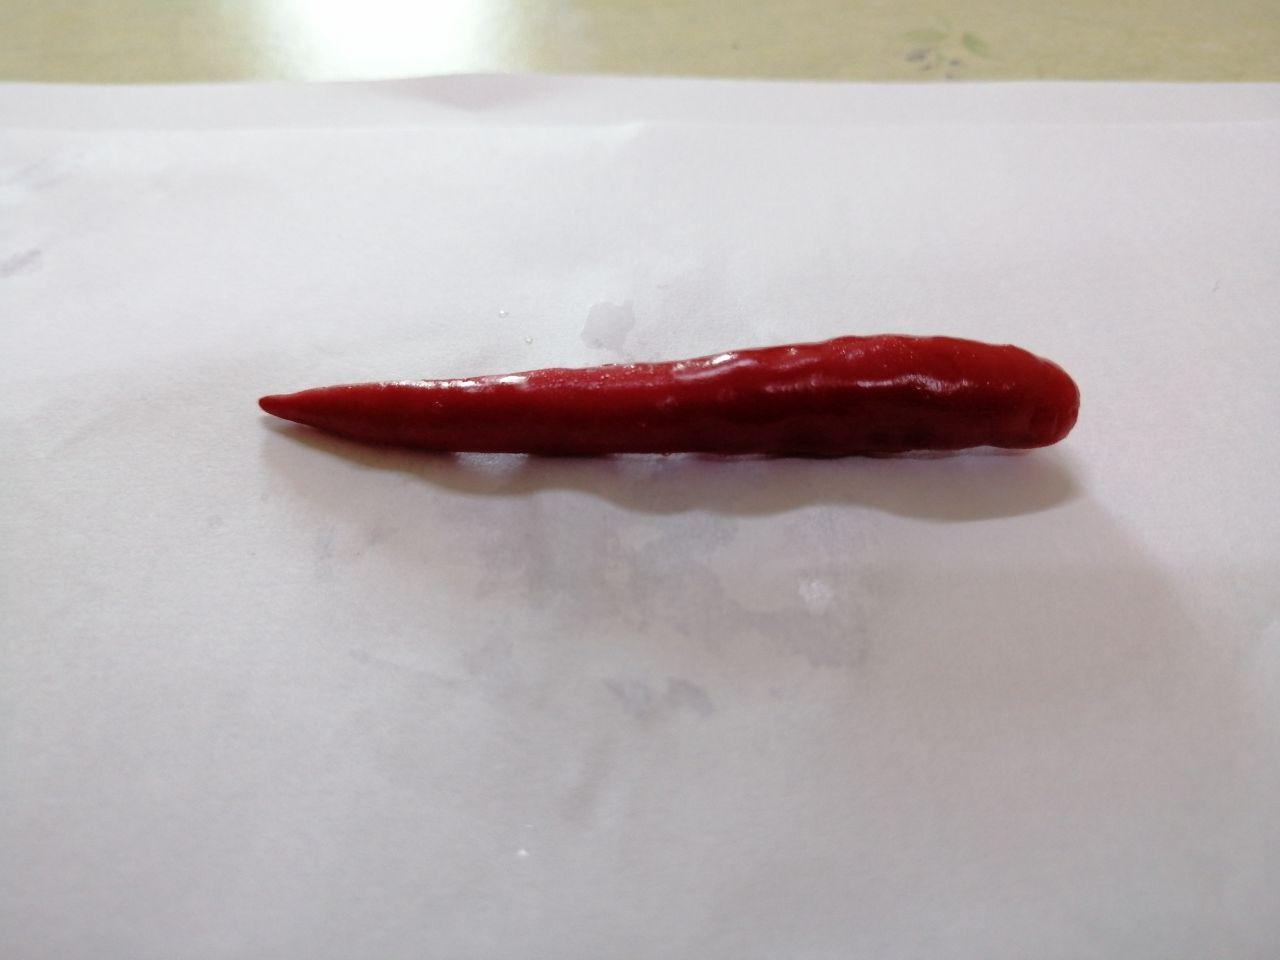lada merah: (234, 325, 1093, 472)
